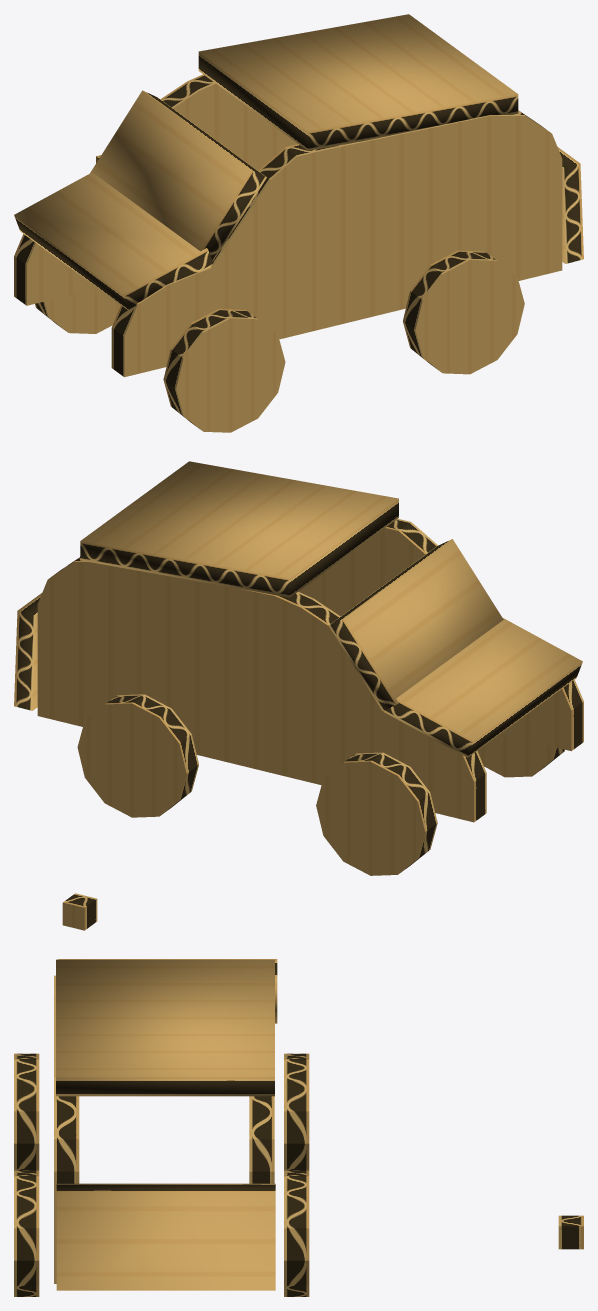
Rendered from card_test.glb.
The picture shows the model from 3 angles, top to bottom: view 1: azimuth 30°, elevation 25°; view 2: azimuth 150°, elevation 25°; view 3: azimuth 270°, elevation 25°; orthographic projection.
Visible parts, largest first — view 1: Grid; view 2: Grid; view 3: Grid.
Boxes of the visible parts, x1,y1,x2,y2 form: Grid: [14, 14, 583, 432]; Grid: [14, 461, 583, 930]; Grid: [14, 959, 583, 1296].
Size of the model in its own units: 1.05 by 0.5718 by 1.13.
Materials: 1 (1 with a texture image).
